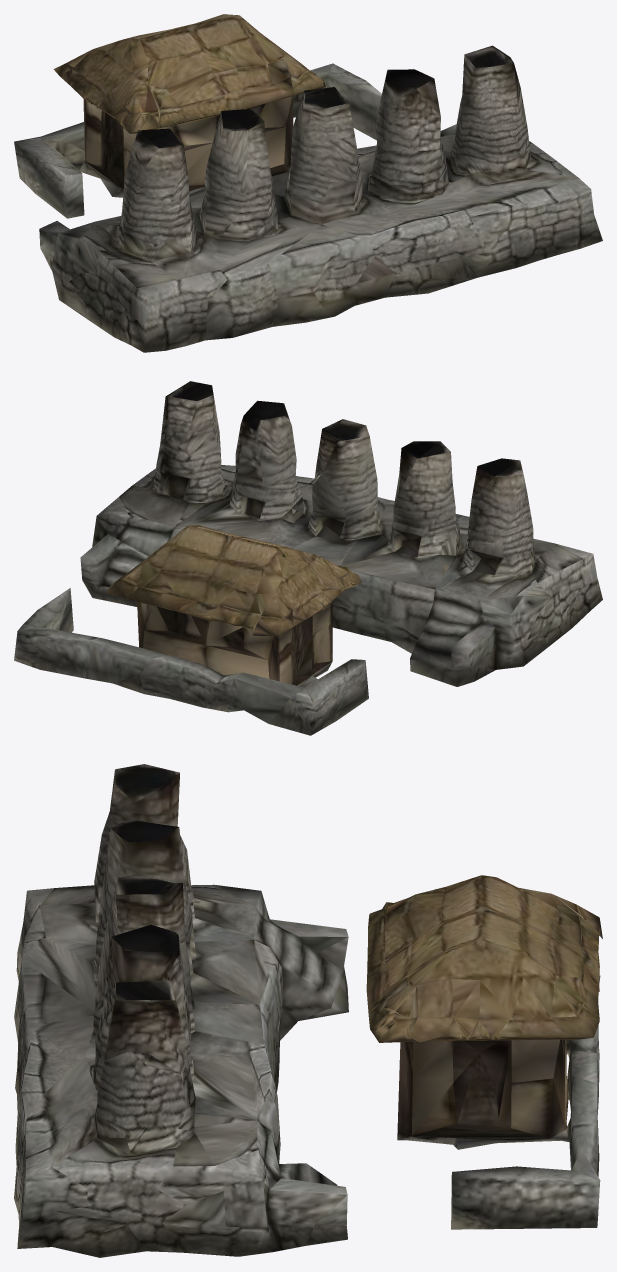
Rendered from bongsu_lod1.glb.
The picture shows the model from 3 angles, top to bottom: view 1: azimuth 30°, elevation 25°; view 2: azimuth 150°, elevation 25°; view 3: azimuth 270°, elevation 25°; orthographic projection. The views are drawn at different scales.
Visible parts, largest first — view 1: tripo_node_4b90c718-8921-41c2-b166-44c7fe2b8311; view 2: tripo_node_4b90c718-8921-41c2-b166-44c7fe2b8311; view 3: tripo_node_4b90c718-8921-41c2-b166-44c7fe2b8311.
Part boxes in pixels (<box>): tripo_node_4b90c718-8921-41c2-b166-44c7fe2b8311: <box>14,14,602,352</box>; tripo_node_4b90c718-8921-41c2-b166-44c7fe2b8311: <box>14,381,602,735</box>; tripo_node_4b90c718-8921-41c2-b166-44c7fe2b8311: <box>14,764,602,1257</box>.
Size of the model in its own units: 0.976 by 0.3583 by 0.8214.
Materials: 1 (1 with a texture image).
